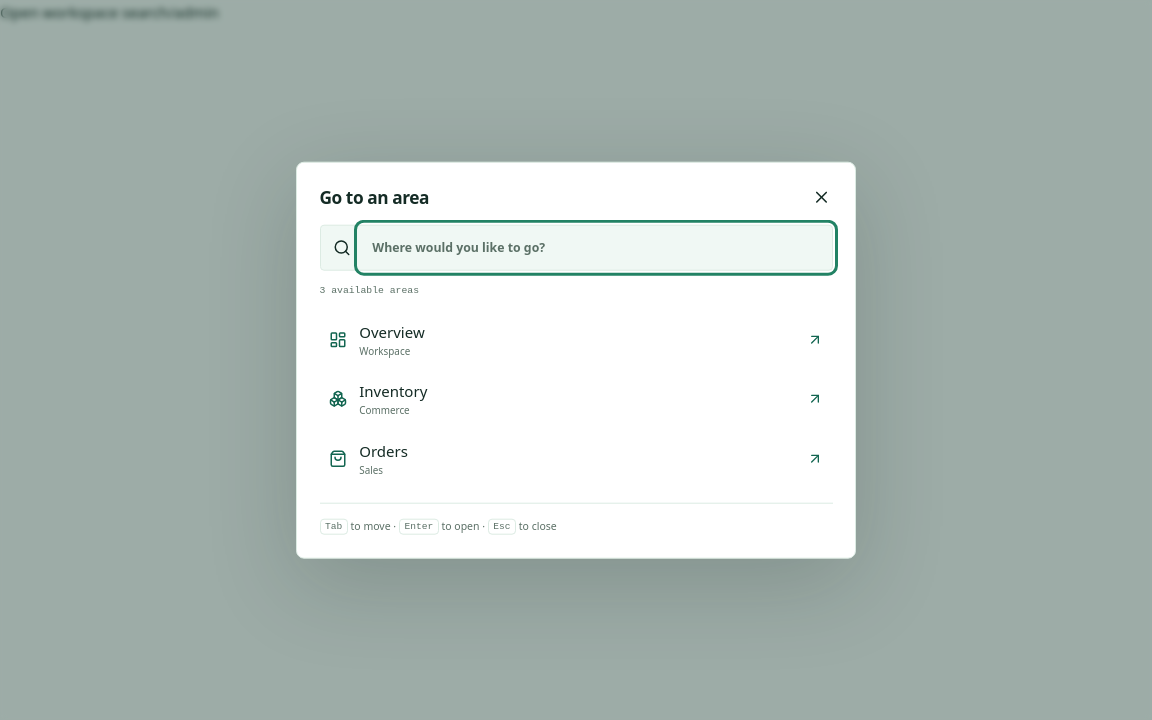
Test case: searches only permitted areas and navigates to a matching result
In the search field named "Search workspace areas": (596, 247) [360,225,832,269], type "sales"
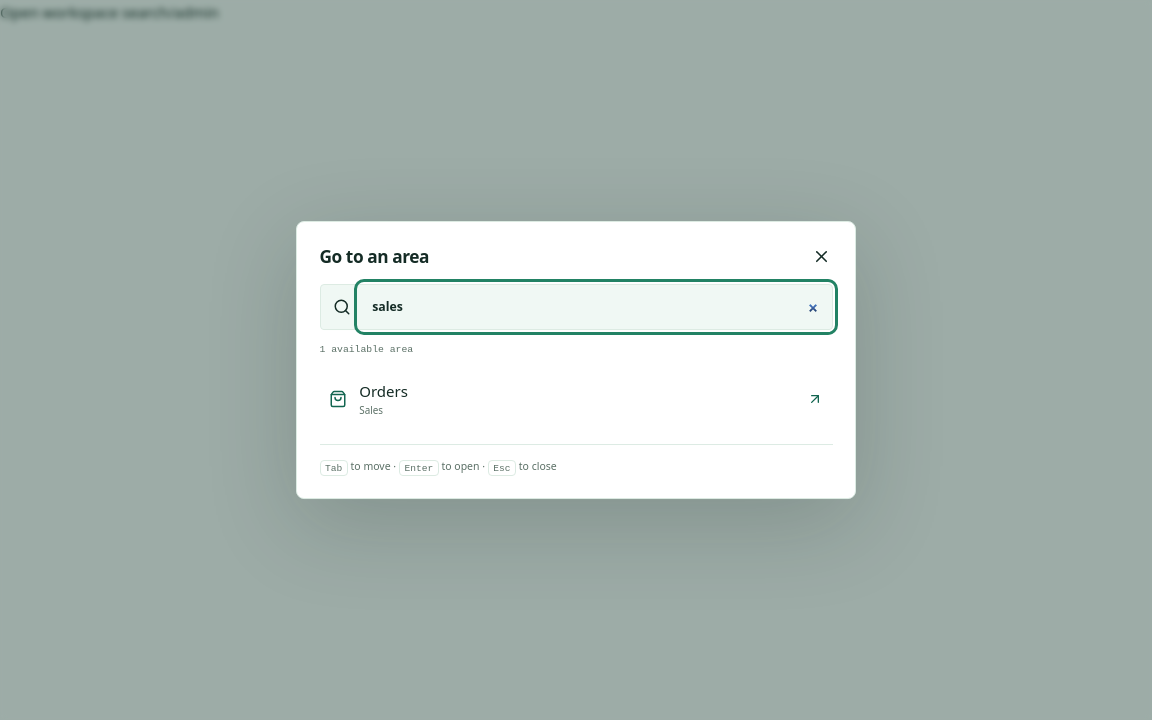
Expected: the message reads "1 available area", [320,344,413,355]
Click the button "Orders Sales": (384, 391) [320,369,832,429]
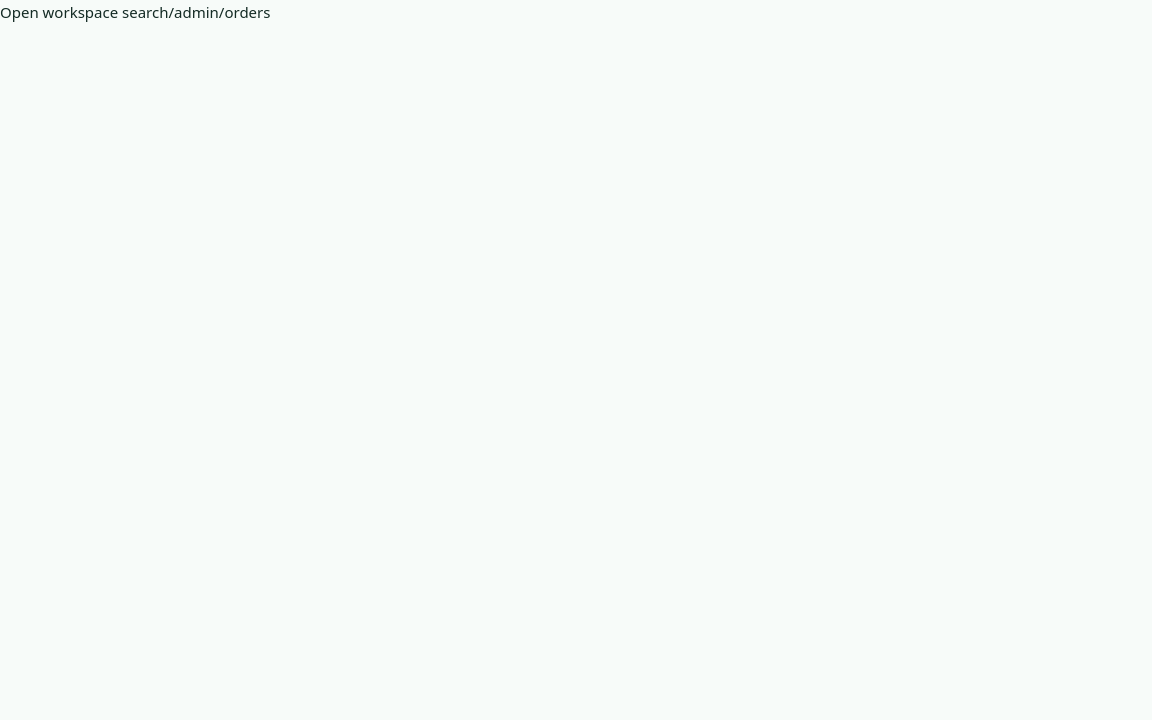
Expected: the text named "Current route" reads "/admin/orders", [168,2,270,22]
Expected: the dialog is gone
